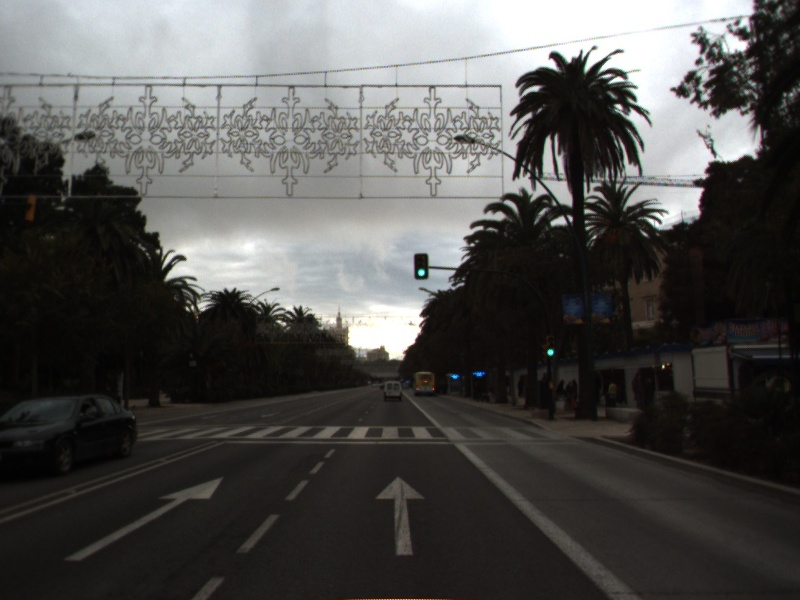STRAIGHT: (62, 475, 225, 563), (374, 475, 426, 557)
